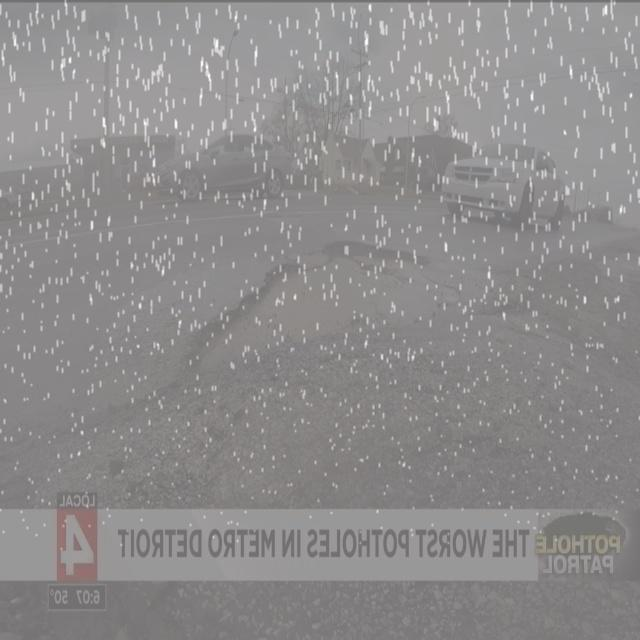Pothole: (112, 234, 448, 420)
